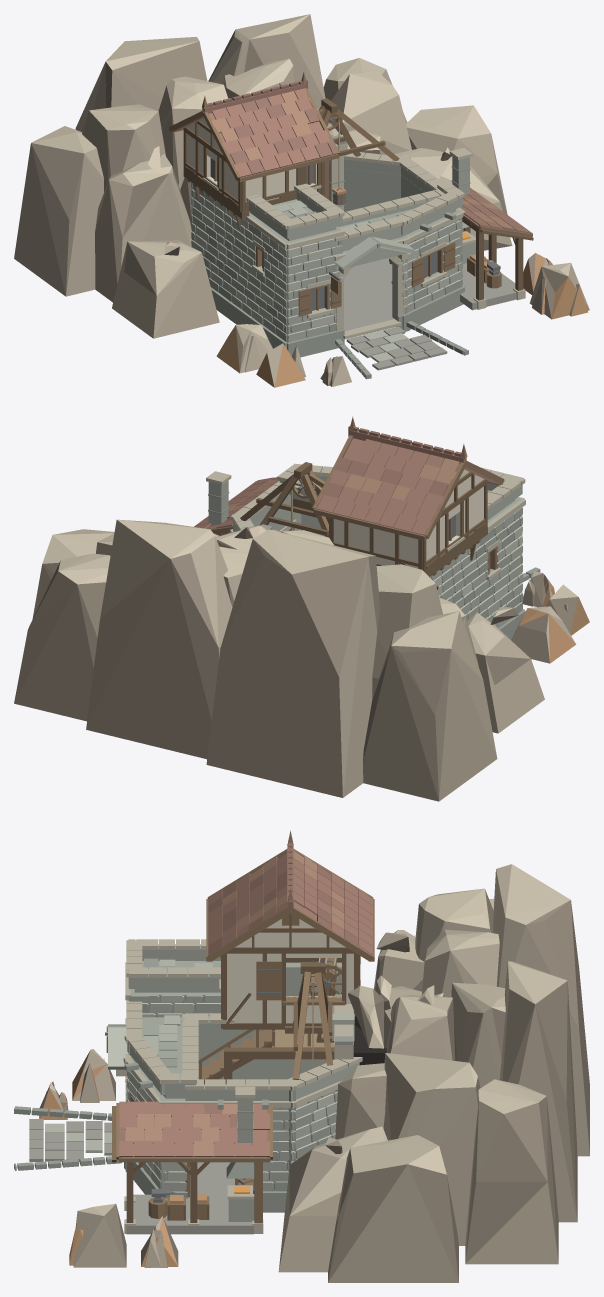
The model's file is quarry.glb.
3 views of the same model, one above another, from view 1: azimuth 30°, elevation 25°; view 2: azimuth 150°, elevation 25°; view 3: azimuth 270°, elevation 25° (orthographic). The views are drawn at different scales.
Parts seen in each view (by area): view 1: Quarry_RockMain, Quarry_ShellMain, Quarry_RoofMain, Quarry_OreRockMain, Quarry_UpperShellMain, Quarry_FloorMain, Quarry_FloorApproachMain, Quarry_FurnishingMain, Quarry_FloorLeanToMain, Quarry_StepMain, Quarry_GlazingMain; view 2: Quarry_RockMain, Quarry_RoofMain, Quarry_ShellMain, Quarry_UpperShellMain, Quarry_OreRockMain; view 3: Quarry_RockMain, Quarry_RoofMain, Quarry_ShellMain, Quarry_UpperShellMain, Quarry_OreRockMain, Quarry_FurnishingMain, Quarry_FloorApproachMain, Quarry_FloorLeanToMain, Quarry_FloorMain, Quarry_StairTreads, Quarry_ServiceShaft_Mouth, Quarry_ServiceWinch_Windlass (+1 smaller).
Part boxes in pixels (x1,y1,x2,y2): Quarry_RockMain: [14, 14, 512, 338]; Quarry_ShellMain: [191, 135, 533, 357]; Quarry_RoofMain: [169, 72, 532, 274]; Quarry_OreRockMain: [216, 253, 589, 387]; Quarry_UpperShellMain: [183, 127, 324, 230]; Quarry_FloorMain: [344, 258, 393, 334]; Quarry_FloorApproachMain: [346, 326, 447, 370]; Quarry_FurnishingMain: [331, 120, 501, 379]; Quarry_FloorLeanToMain: [460, 263, 516, 310]; Quarry_StepMain: [343, 319, 401, 339]; Quarry_GlazingMain: [312, 251, 437, 310]; Quarry_RockMain: [14, 519, 544, 801]; Quarry_RoofMain: [194, 416, 525, 540]; Quarry_ShellMain: [206, 471, 525, 639]; Quarry_UpperShellMain: [329, 479, 487, 577]; Quarry_OreRockMain: [511, 571, 589, 663]; Quarry_RockMain: [278, 864, 589, 1282]; Quarry_RoofMain: [106, 830, 374, 1162]; Quarry_ShellMain: [105, 962, 354, 1233]; Quarry_UpperShellMain: [219, 947, 360, 1029]; Quarry_OreRockMain: [39, 1049, 178, 1267]; Quarry_FurnishingMain: [14, 990, 313, 1221]; Quarry_FloorApproachMain: [29, 1119, 111, 1161]; Quarry_FloorLeanToMain: [126, 1194, 253, 1234]; Quarry_FloorMain: [190, 1162, 234, 1194]; Quarry_StairTreads: [198, 1029, 271, 1079]; Quarry_ServiceShaft_Mouth: [353, 1016, 386, 1065]; Quarry_ServiceWinch_Windlass: [309, 958, 341, 1042].
Size of the model in its own units: 18 by 9.37 by 18.47.
